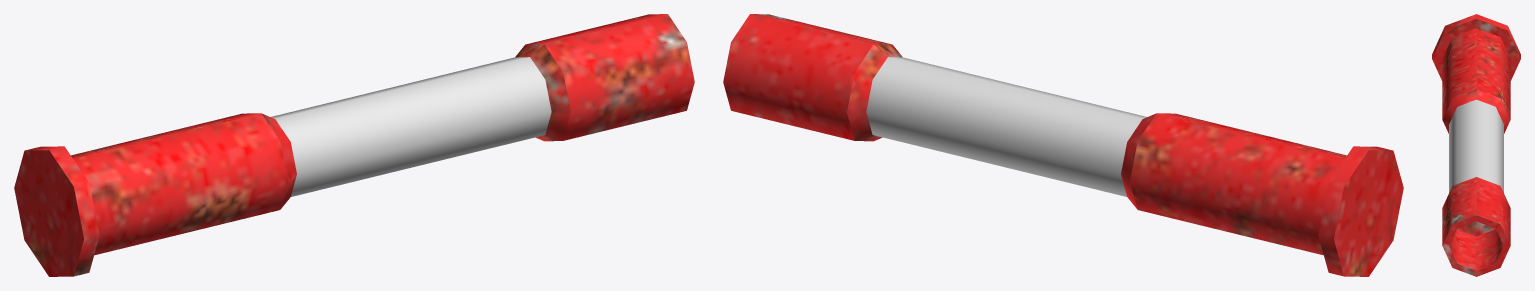
Rendered from SM_PROP_PIPE_METAL_12.fbx.
3 renders of one model, left to right at view 1: azimuth 30°, elevation 25°; view 2: azimuth 150°, elevation 25°; view 3: azimuth 270°, elevation 25°, orthographic. The views are drawn at different scales.
Visible parts, largest first — view 1: SM_PROP_PIPE_METAL_12; view 2: SM_PROP_PIPE_METAL_12; view 3: SM_PROP_PIPE_METAL_12.
Part boxes in pixels (box(x1,y1,x2,y2)): SM_PROP_PIPE_METAL_12: box(14, 14, 694, 276); SM_PROP_PIPE_METAL_12: box(723, 14, 1403, 276); SM_PROP_PIPE_METAL_12: box(1432, 14, 1520, 276).
Size of the model in its own units: 2 by 0.3917 by 0.3917.
